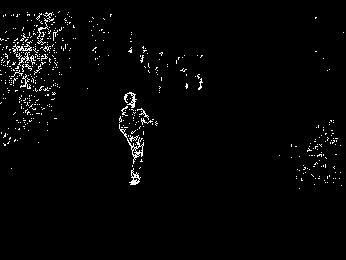person: (119, 89, 158, 188)
